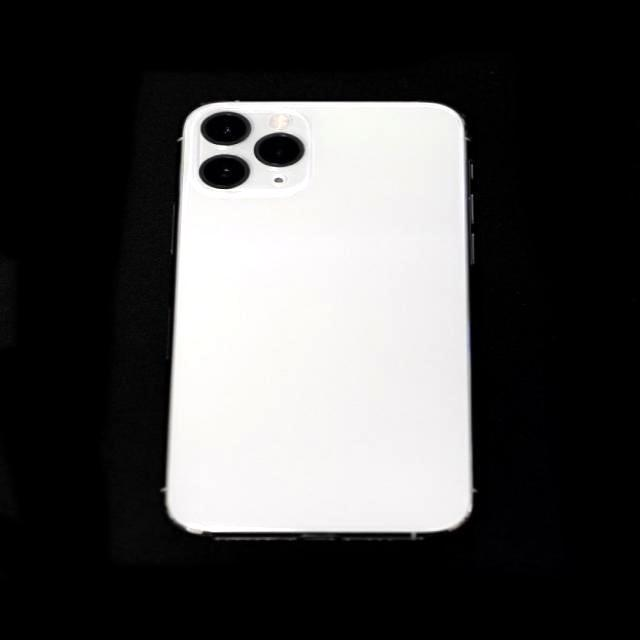lens_back: (252, 129, 307, 170), (198, 151, 251, 191), (198, 110, 253, 146)
phone: (161, 94, 477, 537)
